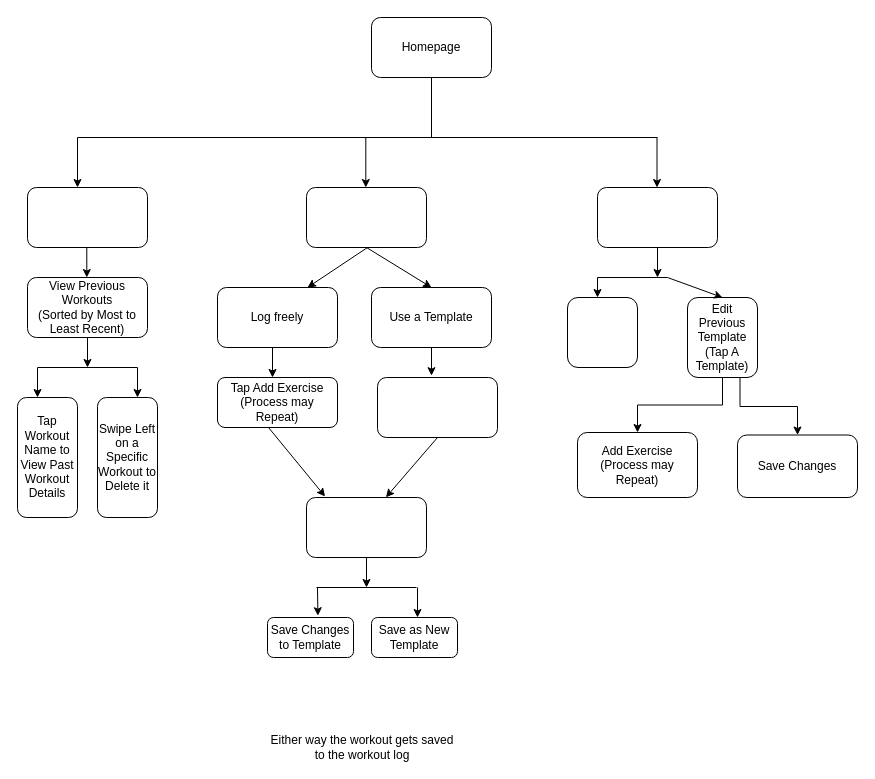
Some shapes in this 875 by 779 pixel diagram are drawn without their labels. The shapes that lost their labels are listed below. From the top down, each one's box as (x1, y1, x2, y2) in pixels, then its label:
(26, 186, 148, 248): View Workout History
(306, 186, 426, 248): Log Workout
(596, 186, 718, 248): Template
(566, 296, 638, 368): Delete Template (Press the vertical 3 dot icon)
(376, 376, 498, 438): Whichever template is selected will be immediately put into their logging place
(306, 496, 426, 558): End Workout
